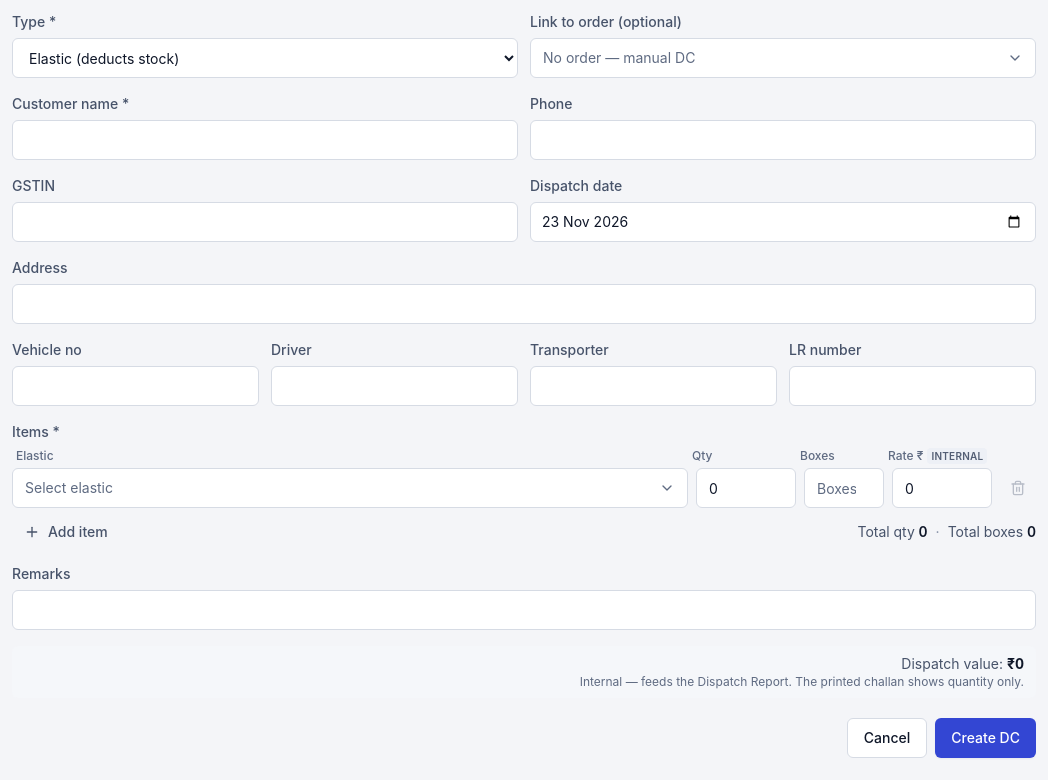
Test: a machine-part challan › keeps its free-text description — parts are not a master list
The image size is (1048, 780).
Select "Machine part" in the dropdown labelled "Type *" at (265, 58), box x1=12 y1=38 x2=518 y2=78
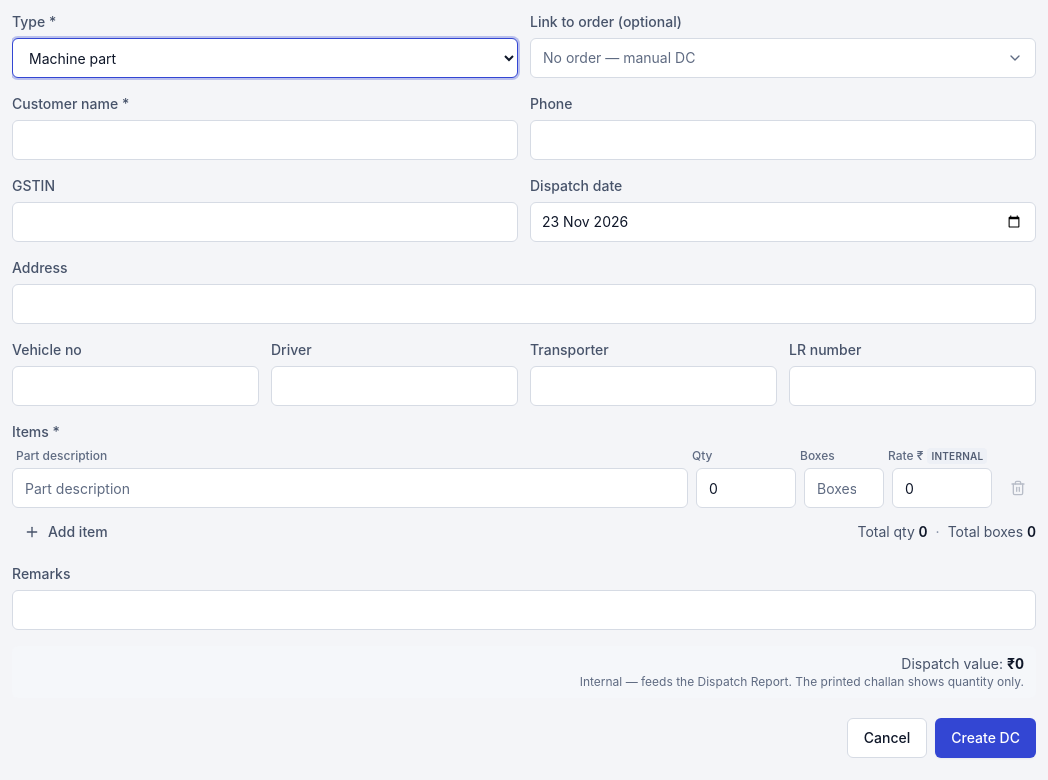
Expected: the field with placeholder "Part description" is shown, x1=12 y1=468 x2=688 y2=508
Expected: the text labelled "Elastic" is gone
